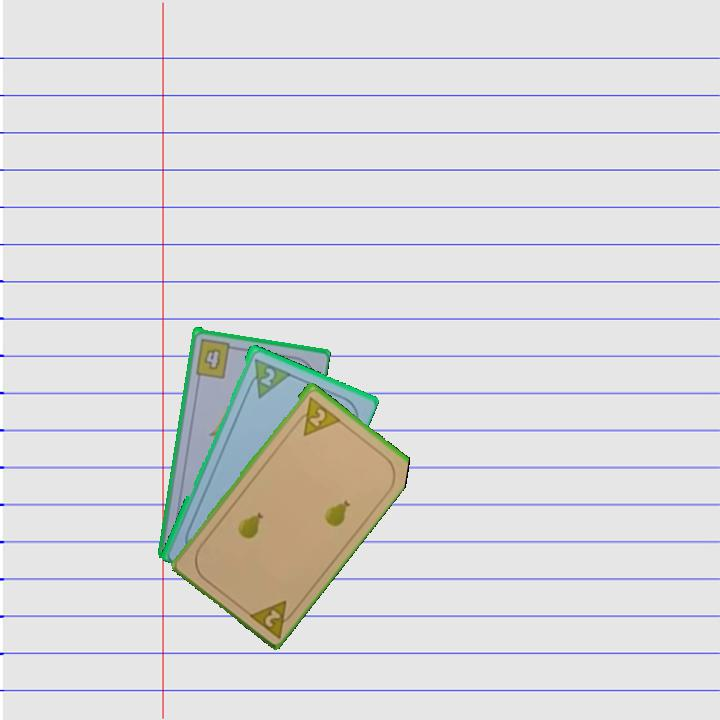2p: (244, 596, 300, 640), (291, 392, 342, 438), (256, 364, 278, 389)
4b: (192, 335, 239, 380)
